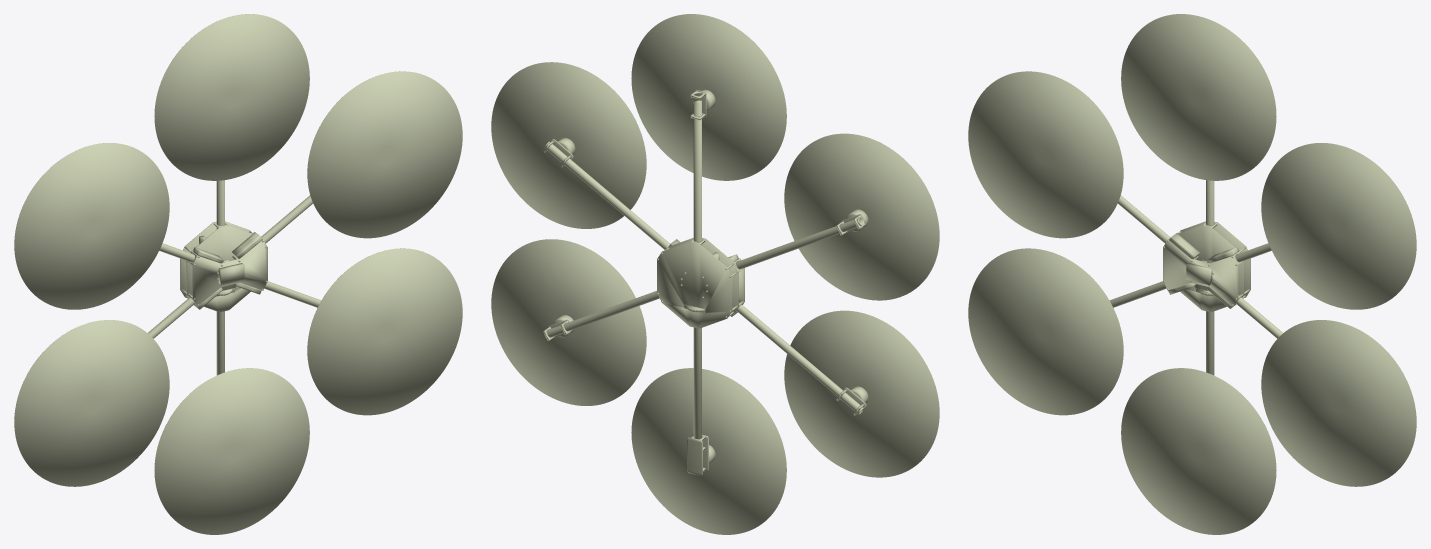
3 views of the same model, side by side, from view 1: azimuth 30°, elevation 25°; view 2: azimuth 150°, elevation 25°; view 3: azimuth 330°, elevation 25° (orthographic).
Parts seen in each view (by area): view 1: Tube10_sep64, Tube10_sep71, Tube10_sep50, Tube10_sep42, Tube10_sep57, Tube10_sep35, Cylinder7_copy34, Cylinder7, Cube5_sep11, Cylinder7_copy90, Tube10_sep70; view 2: Tube10_sep57, Tube10_sep42, Tube10_sep71, Tube10_sep50, Tube10_sep64, Tube10_sep35, Cylinder7_copy90, Cube5_sep11, Tube10_sep56, Tube10_sep70, Tube10_sep63, Tube10_sep77 (+2 smaller); view 3: Tube10_sep57, Tube10_sep50, Tube10_sep71, Tube10_sep42, Tube10_sep64, Tube10_sep35, Cylinder7_copy34, Cylinder7, Cube5_sep11, Cylinder7_copy90, Tube10_sep63.
Part boxes in pixels (x1,y1,x2,y2): Tube10_sep64: (307, 71, 462, 238); Tube10_sep71: (307, 248, 462, 415); Tube10_sep50: (14, 320, 169, 486); Tube10_sep42: (154, 14, 309, 180); Tube10_sep57: (14, 143, 169, 309); Tube10_sep35: (154, 368, 309, 534); Cylinder7_copy34: (192, 240, 267, 306); Cylinder7: (186, 225, 252, 312); Cube5_sep11: (216, 180, 224, 375); Cylinder7_copy90: (180, 221, 250, 297); Tube10_sep70: (234, 195, 312, 259); Tube10_sep57: (784, 133, 939, 300); Tube10_sep42: (631, 14, 786, 180); Tube10_sep71: (491, 239, 646, 405); Tube10_sep50: (784, 310, 939, 477); Tube10_sep64: (491, 62, 646, 228); Tube10_sep35: (631, 368, 786, 534); Cylinder7_copy90: (657, 241, 732, 328); Cube5_sep11: (693, 99, 701, 438); Tube10_sep56: (736, 302, 864, 414); Tube10_sep70: (544, 141, 669, 249); Tube10_sep63: (736, 217, 864, 269); Tube10_sep77: (544, 291, 659, 337); Tube10_sep57: (968, 71, 1123, 238); Tube10_sep50: (968, 248, 1123, 415); Tube10_sep71: (1261, 320, 1416, 486); Tube10_sep42: (1121, 14, 1276, 180); Tube10_sep64: (1261, 143, 1416, 309); Tube10_sep35: (1121, 368, 1276, 534); Cylinder7_copy34: (1163, 239, 1238, 306); Cylinder7: (1178, 225, 1244, 312); Cube5_sep11: (1206, 180, 1214, 375); Cylinder7_copy90: (1180, 221, 1250, 297); Tube10_sep63: (1118, 195, 1196, 259).
Size of the model in its own units: 1576 by 1736 by 148.
